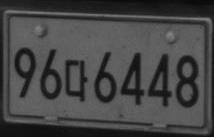4: (119, 51, 145, 106), (147, 53, 172, 106)
6: (38, 47, 62, 99), (93, 51, 117, 103)
8: (174, 53, 199, 108)
9: (13, 47, 36, 97)
다: (64, 59, 88, 102)
